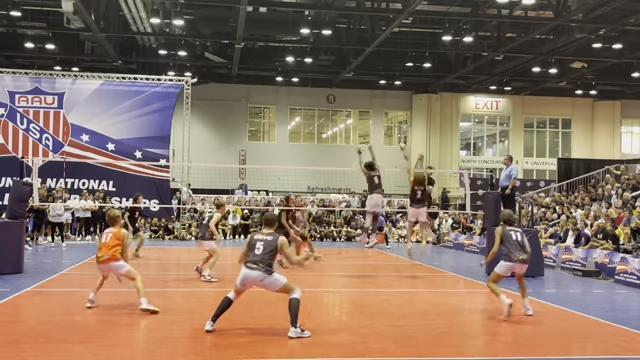attacco: (423, 162, 443, 240)
muro: (350, 140, 392, 251), (407, 152, 429, 260)
